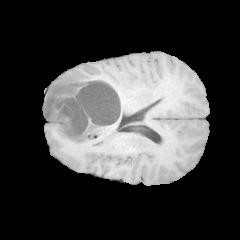glioma: (42, 72, 123, 142)
